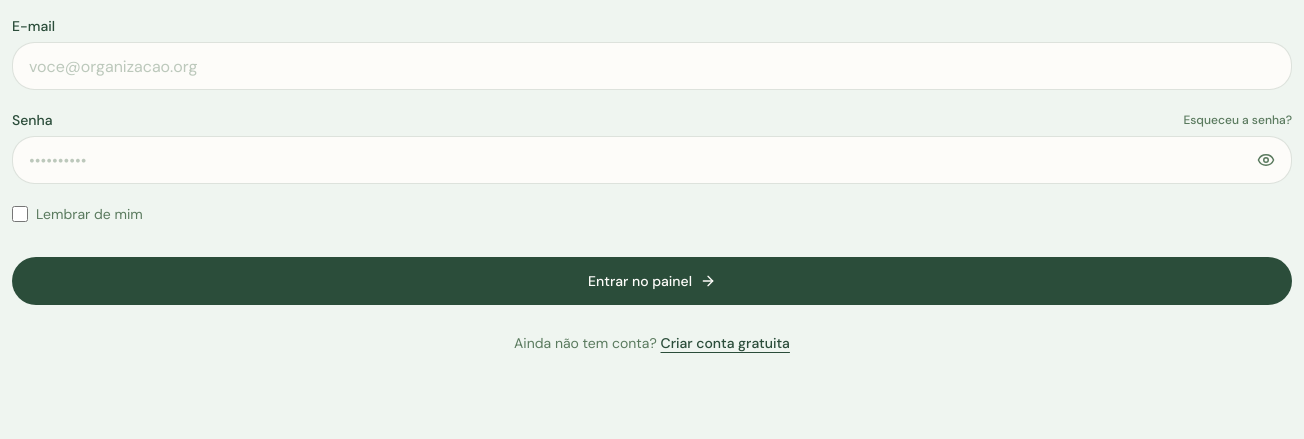
LoginForm › mostra a mensagem de erro retornada pelo backend
This screenshot has width=1304, height=439.
Type "voce@org.com" into the field labelled "E-mail".
click(652, 66); type("voce@org.com")  # box [12, 42, 1292, 90]
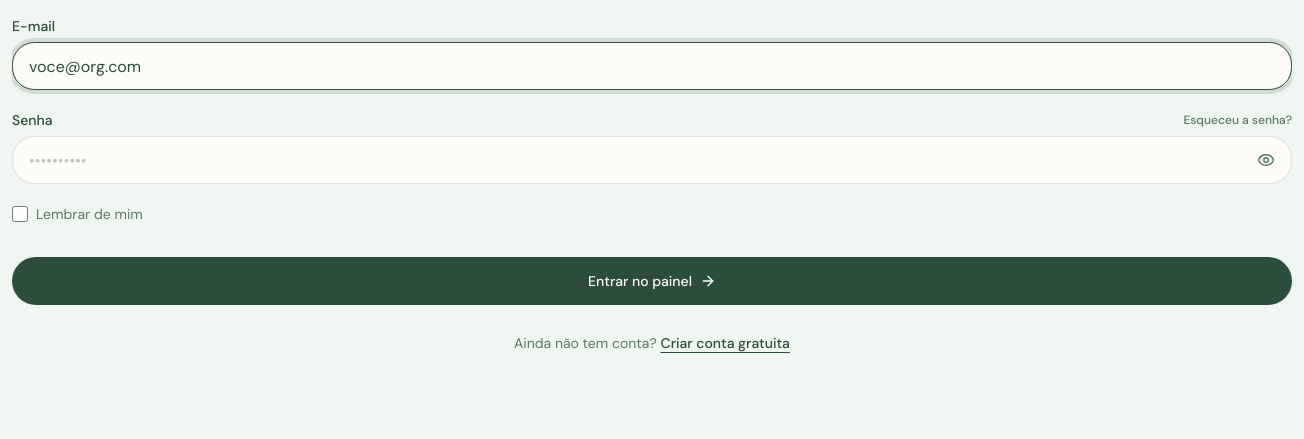
Type "senha123" into the password field labelled "Senha".
click(652, 160); type("senha123")  # box [12, 136, 1292, 184]
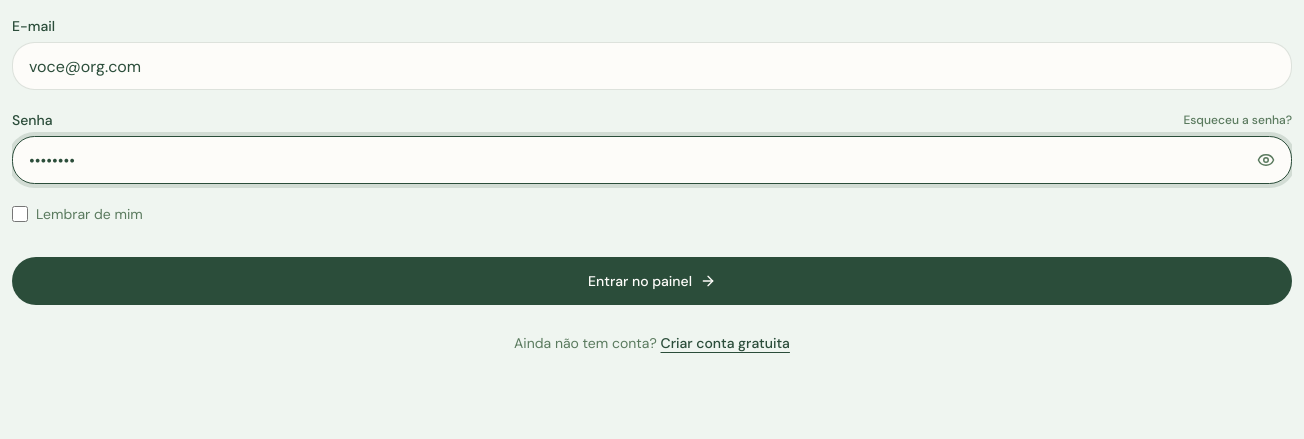
Click the button "Entrar no painel".
click(652, 281)  # box [12, 257, 1292, 305]
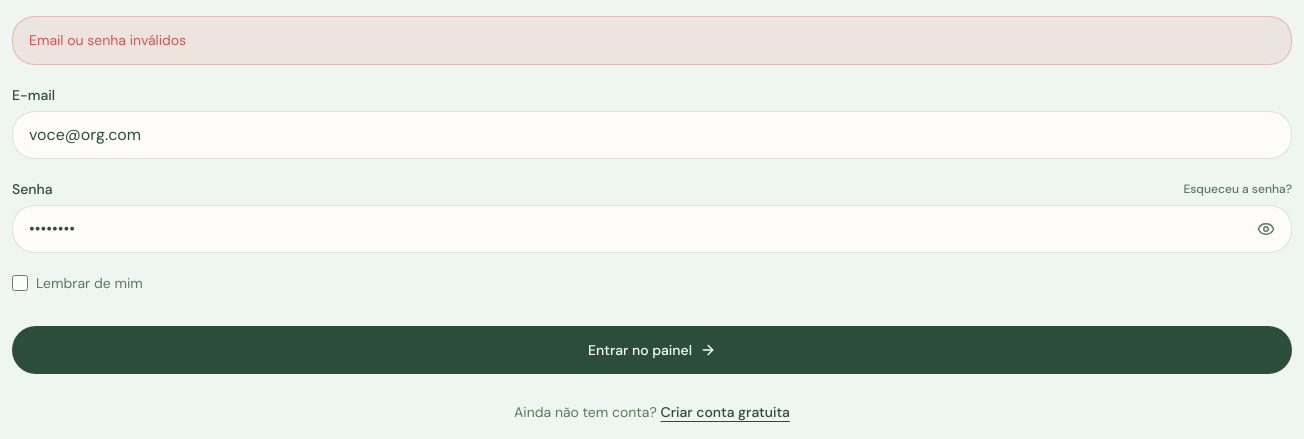
Result: the message reads "Email ou senha inválidos" at [29, 31, 186, 49]
